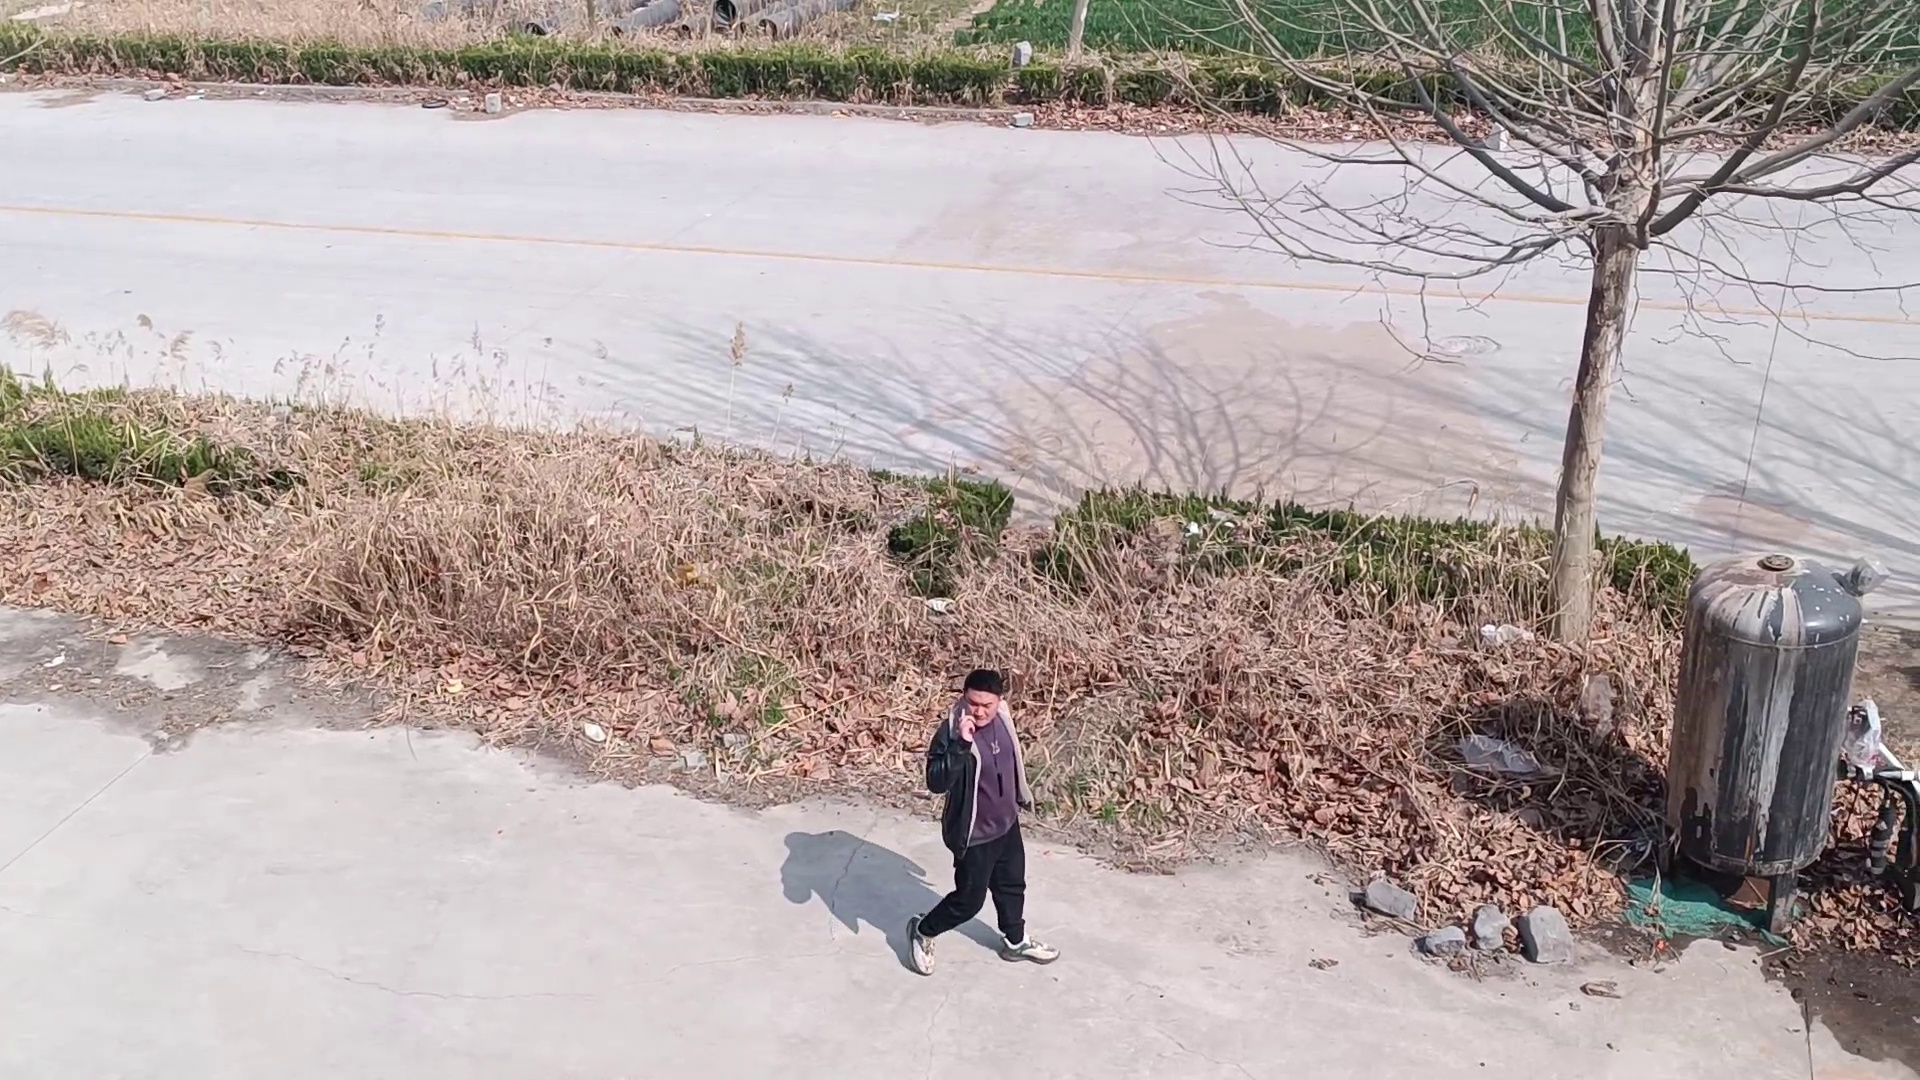phone: (957, 671, 1015, 742)
